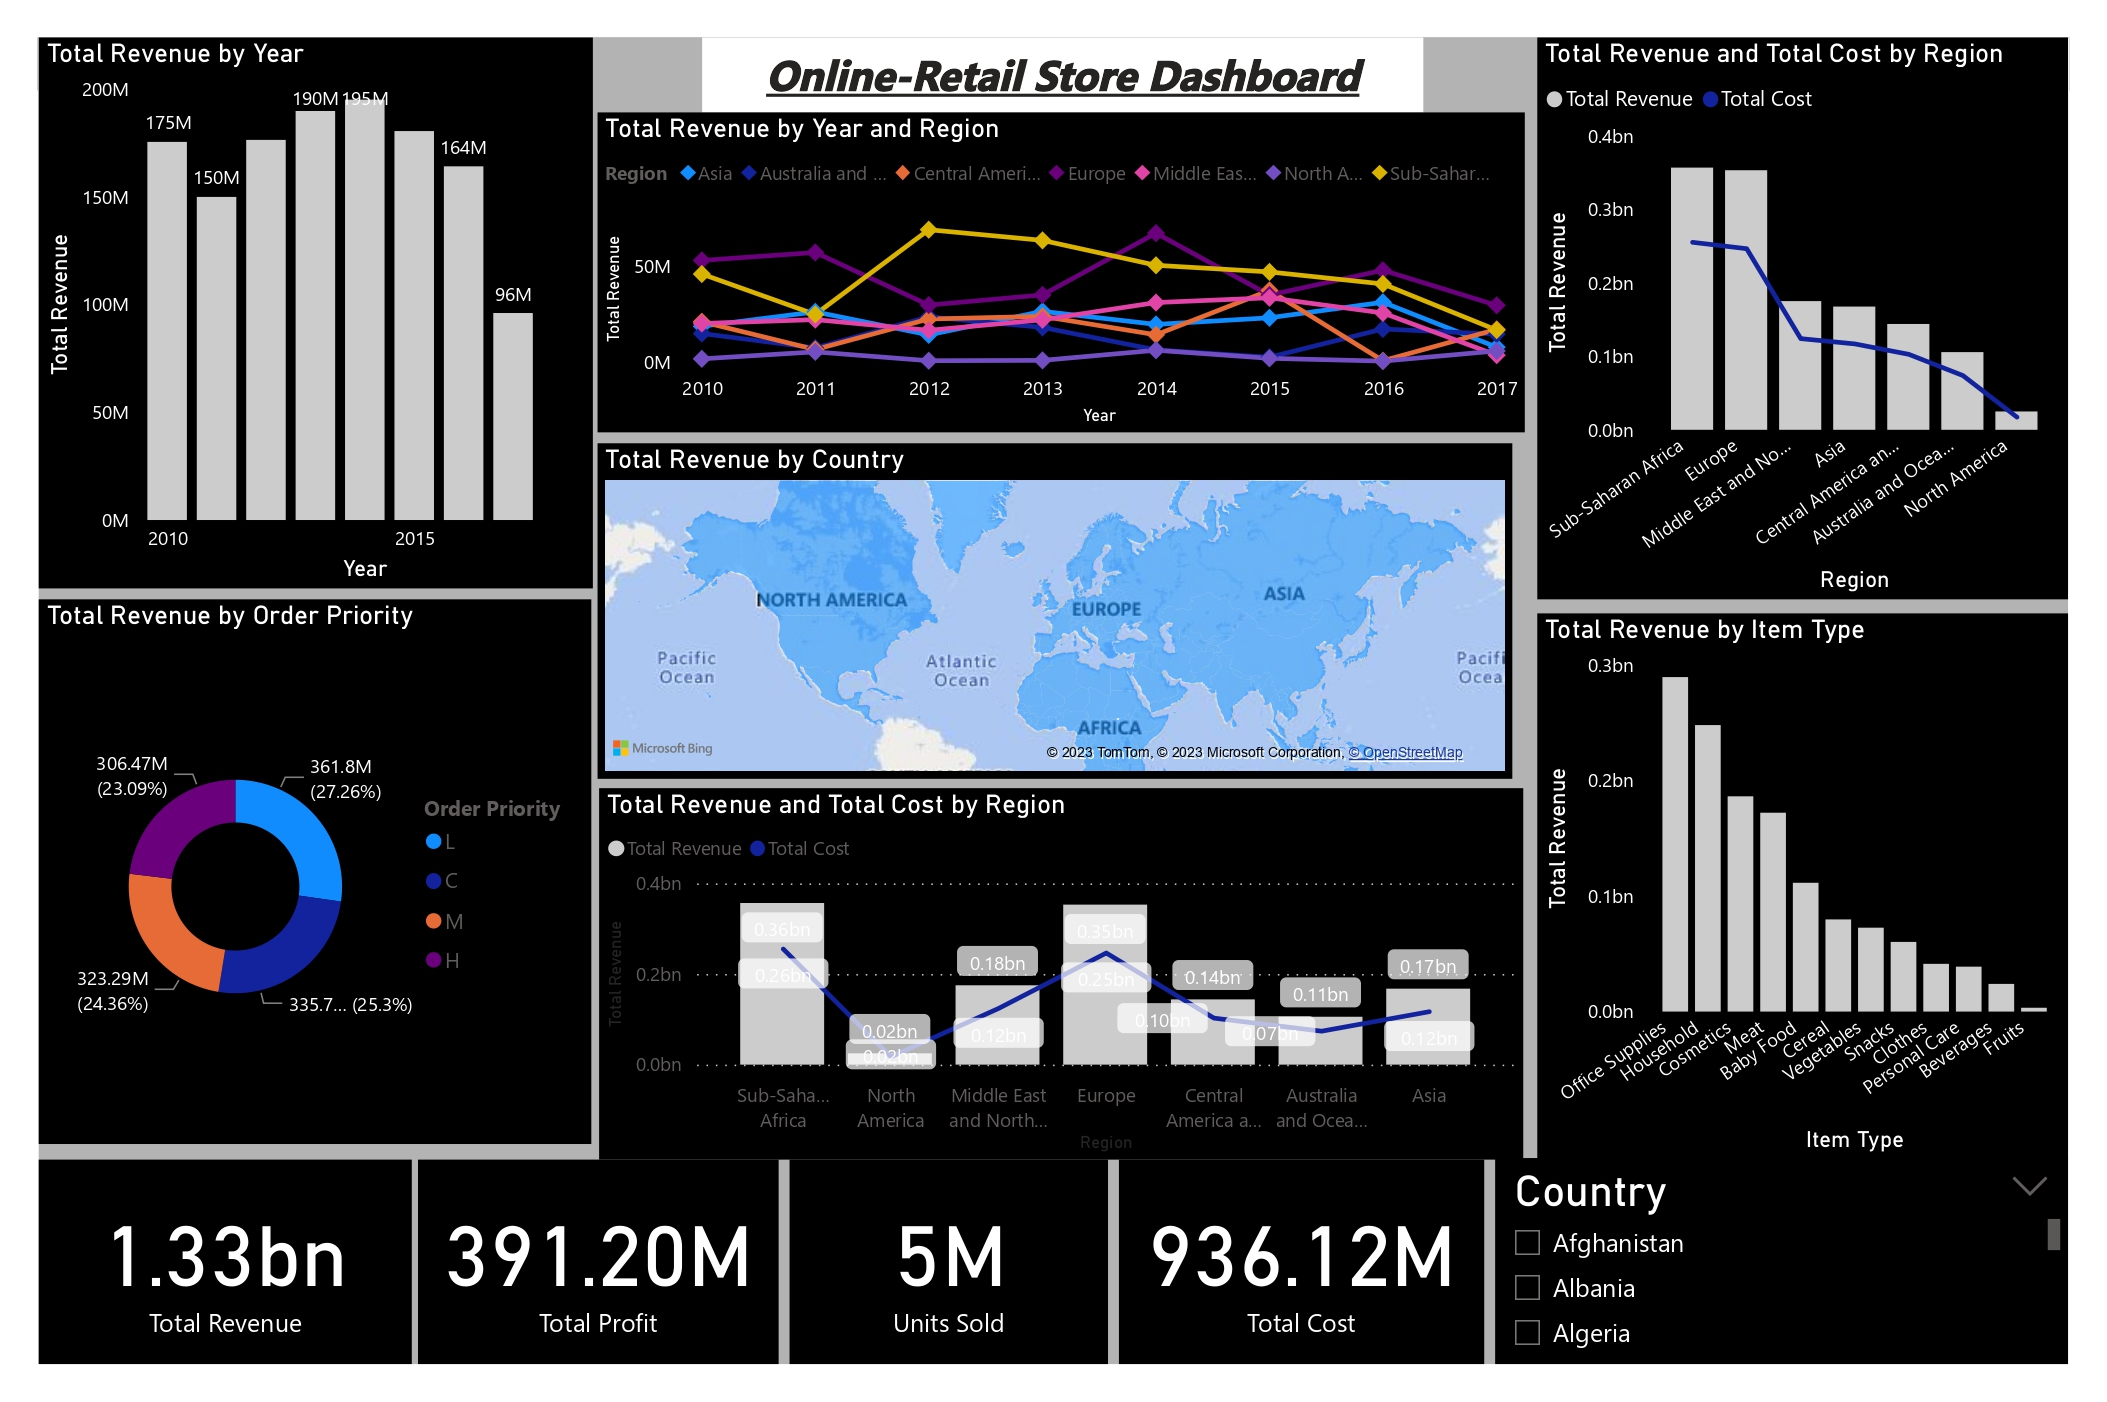

This screenshot's page, from the dashboard's own definition file:
{"tool":"powerbi","page":{"name":"Page 1","canvas":[1300,850],"ordinal":0},"visuals":[{"type":"columnChart","fields":{"Y":["Sum(DATA.Total Revenue)"],"Category":["DATA.Order Date.Variation.Date Hierarchy.Year"]},"box":[0,0,355,353],"z":0},{"type":"textbox","box":[425,0,462,48],"z":1000},{"type":"lineChart","fields":{"Y":["Sum(DATA.Total Revenue)"],"Category":["DATA.Order Date.Variation.Date Hierarchy.Year"],"Series":["DATA.Region"]},"box":[358.3,48.3,593.3,205],"z":2000},{"type":"lineStackedColumnComboChart","fields":{"Category":["DATA.Region"],"Y2":["Sum(DATA.Total Cost)"],"Y":["Sum(DATA.Total Revenue)"]},"box":[960,0,340,360],"z":3000},{"type":"columnChart","fields":{"Category":["DATA.Item Type"],"Y":["Sum(DATA.Total Revenue)"]},"box":[960,368.6,340,350],"z":4000},{"type":"donutChart","fields":{"Category":["DATA.Order Priority"],"Y":["Sum(DATA.Total Revenue)"]},"box":[0,360,354.3,348.6],"z":5000},{"type":"filledMap","fields":{"Category":["DATA.Country"]},"box":[358,260,586,215],"z":6000},{"type":"lineStackedColumnComboChart","fields":{"Category":["DATA.Region"],"Y":["Sum(DATA.Total Revenue)"],"Y2":["Sum(DATA.Total Cost)"]},"box":[358.6,481.4,592.9,237.1],"z":7000},{"type":"card","fields":{"Values":["Sum(DATA.Total Revenue)"]},"box":[0,719,239.2,131],"z":8000},{"type":"card","fields":{"Values":["Sum(DATA.Total Profit)"]},"box":[242.9,718.6,231.4,131.4],"z":9000},{"type":"card","fields":{"Values":["Sum(DATA.Total Cost)"]},"box":[692,719,234,131],"z":10000},{"type":"card","fields":{"Values":["Sum(DATA.Units Sold)"]},"box":[481,719,204,131],"z":11000},{"type":"slicer","fields":{"Values":["DATA.Country"]},"box":[933.3,718.3,366.7,131.7],"z":12000}]}

Visuals, with their boxes in screenshot pixels (x1, y1, x2, y2), scaled from the page's 1300x850 canvas onto the 2107x1402 screenshot:
columnChart - Sum(DATA.Total Revenue) x DATA.Order Date.Variation.Date Hierarchy.Year: x1=0, y1=0, x2=575, y2=582
textbox: x1=689, y1=0, x2=1438, y2=79
lineChart - Sum(DATA.Total Revenue) x DATA.Order Date.Variation.Date Hierarchy.Year: x1=581, y1=80, x2=1542, y2=418
lineStackedColumnComboChart - DATA.Region x Sum(DATA.Total Cost): x1=1556, y1=0, x2=2106, y2=594
columnChart - DATA.Item Type x Sum(DATA.Total Revenue): x1=1556, y1=608, x2=2106, y2=1185
donutChart - DATA.Order Priority x Sum(DATA.Total Revenue): x1=0, y1=594, x2=574, y2=1169
filledMap - DATA.Country: x1=580, y1=429, x2=1530, y2=783
lineStackedColumnComboChart - DATA.Region x Sum(DATA.Total Revenue): x1=581, y1=794, x2=1542, y2=1185
card - Sum(DATA.Total Revenue): x1=0, y1=1186, x2=388, y2=1401
card - Sum(DATA.Total Profit): x1=394, y1=1185, x2=769, y2=1401
card - Sum(DATA.Total Cost): x1=1122, y1=1186, x2=1501, y2=1401
card - Sum(DATA.Units Sold): x1=780, y1=1186, x2=1110, y2=1401
slicer - DATA.Country: x1=1513, y1=1185, x2=2106, y2=1401
